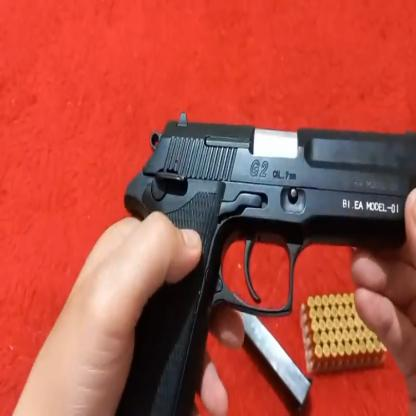handgun: (102, 116, 416, 414)
